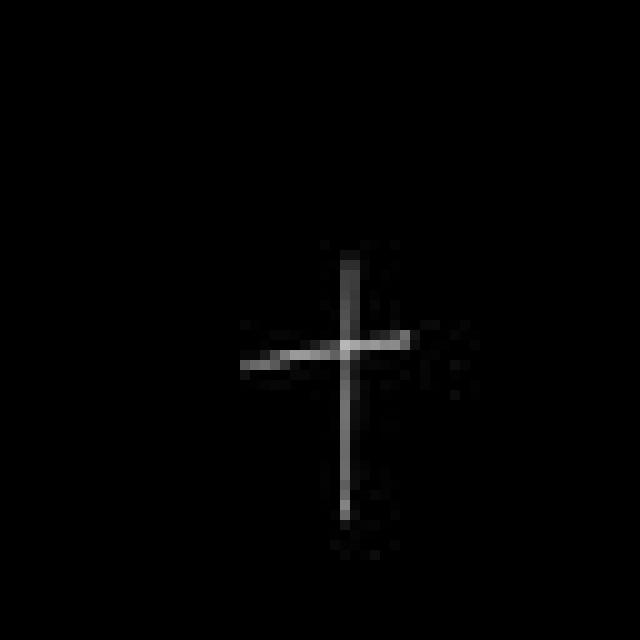10 -ten-: (235, 255, 418, 528)
